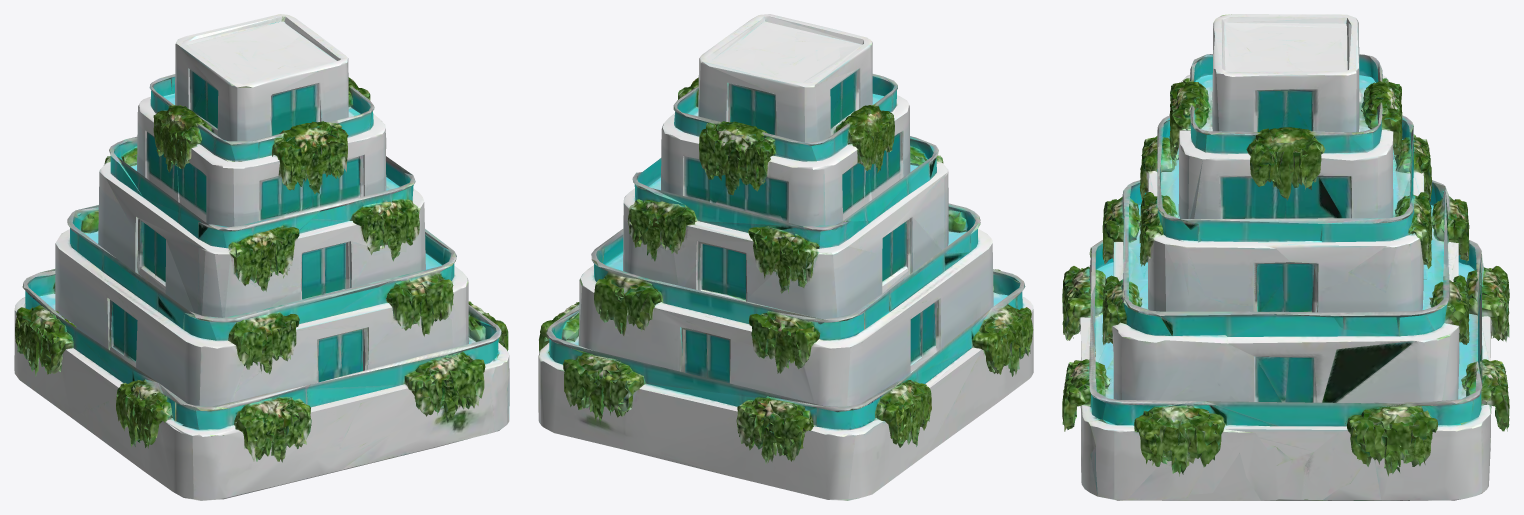
The model's file is apt.glb.
3 views of the same model, side by side, from view 1: azimuth 30°, elevation 25°; view 2: azimuth 150°, elevation 25°; view 3: azimuth 270°, elevation 25° (orthographic). The views are drawn at different scales.
Bounding box in the file's own units: 1.89 × 1.73 × 1.89.
Materials: 1 (1 with a texture image).
